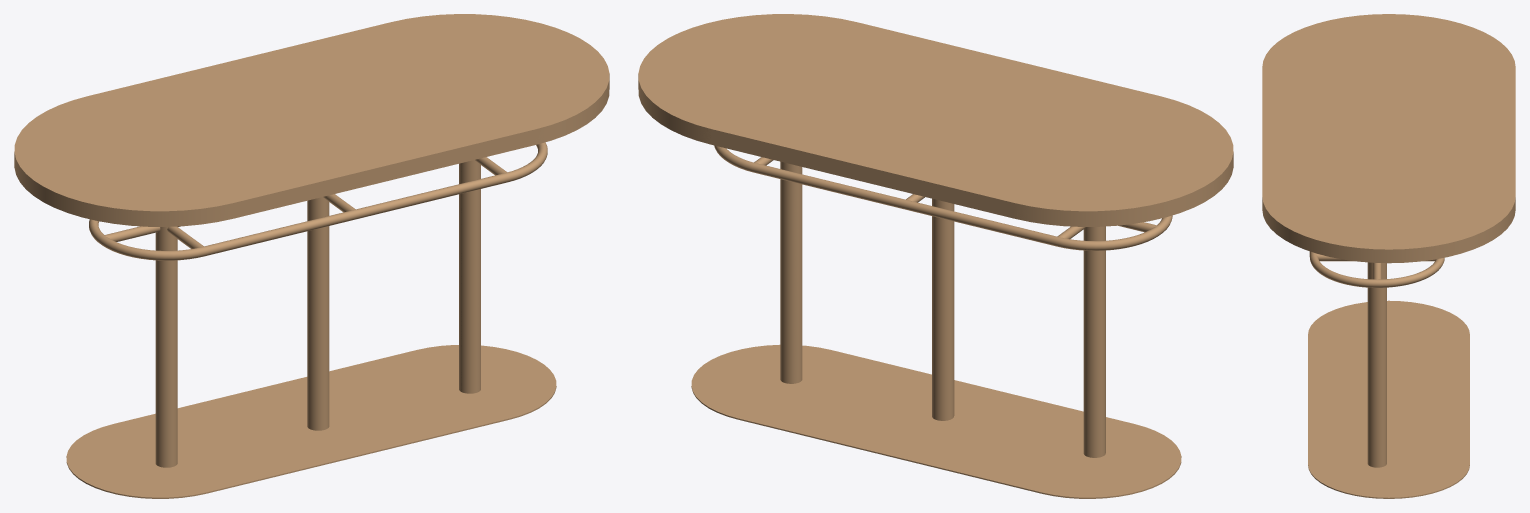
The model's file is BarTable.dae.
3 renders of one model, left to right at view 1: azimuth 30°, elevation 25°; view 2: azimuth 150°, elevation 25°; view 3: azimuth 270°, elevation 25°, orthographic. The views are drawn at different scales.
Visible parts, largest first — view 1: bartable_top, bartable_base, bartable_frame; view 2: bartable_top, bartable_base, bartable_frame; view 3: bartable_top, bartable_base, bartable_frame.
Boxes of the visible parts, x1=… form: bartable_top: x1=14, y1=14, x2=609, y2=226; bartable_base: x1=66, y1=345, x2=556, y2=498; bartable_frame: x1=89, y1=142, x2=547, y2=467; bartable_top: x1=638, y1=14, x2=1233, y2=226; bartable_base: x1=691, y1=344, x2=1181, y2=498; bartable_frame: x1=714, y1=145, x2=1172, y2=457; bartable_top: x1=1262, y1=14, x2=1515, y2=263; bartable_base: x1=1308, y1=300, x2=1469, y2=498; bartable_frame: x1=1309, y1=251, x2=1444, y2=467.
Bounding box in the file's own units: 2.2 × 1 × 1.17.
